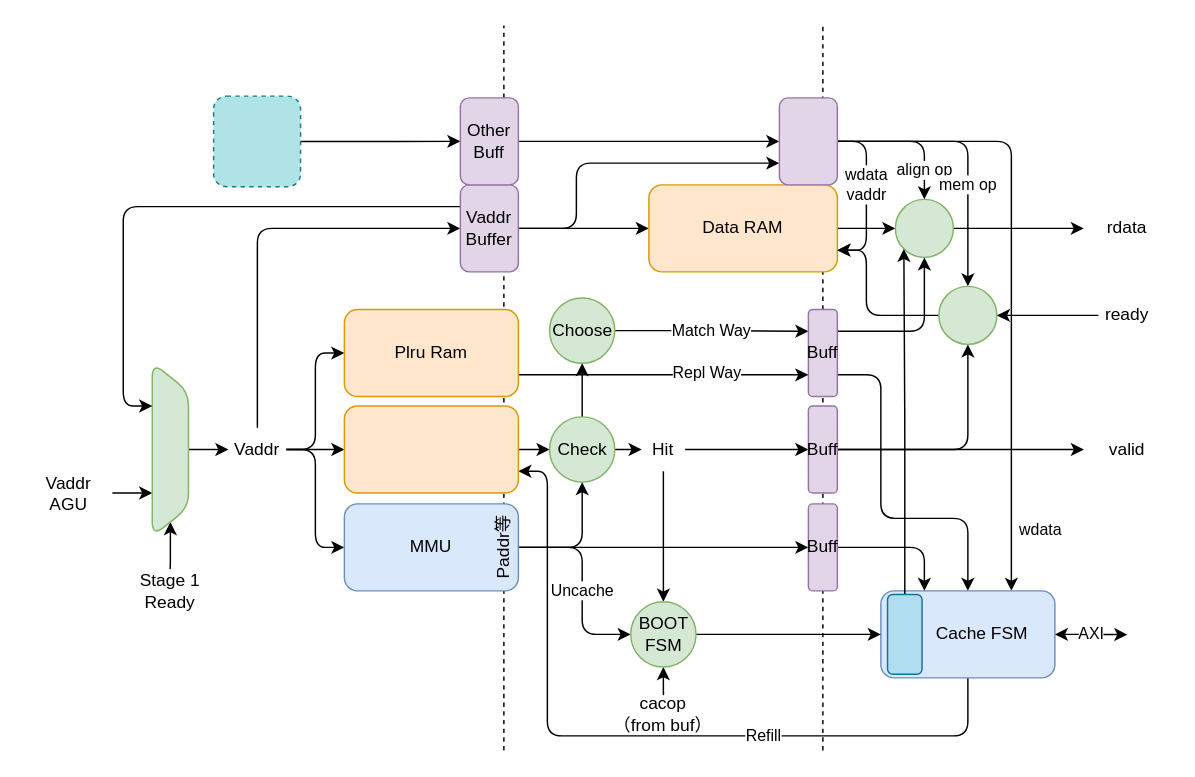
This 1195x777 diagram has some shape labels left out. Here are the shapes that lost their labels. From the top down, the centre of each, then its label:
point (256, 141): wdata align op mem op cacop
point (807, 140): Other Vaddr Buff
point (923, 227): Align
point (967, 314): Wen
point (430, 449): Tag Vaild RAM
point (904, 633): Read Buf
